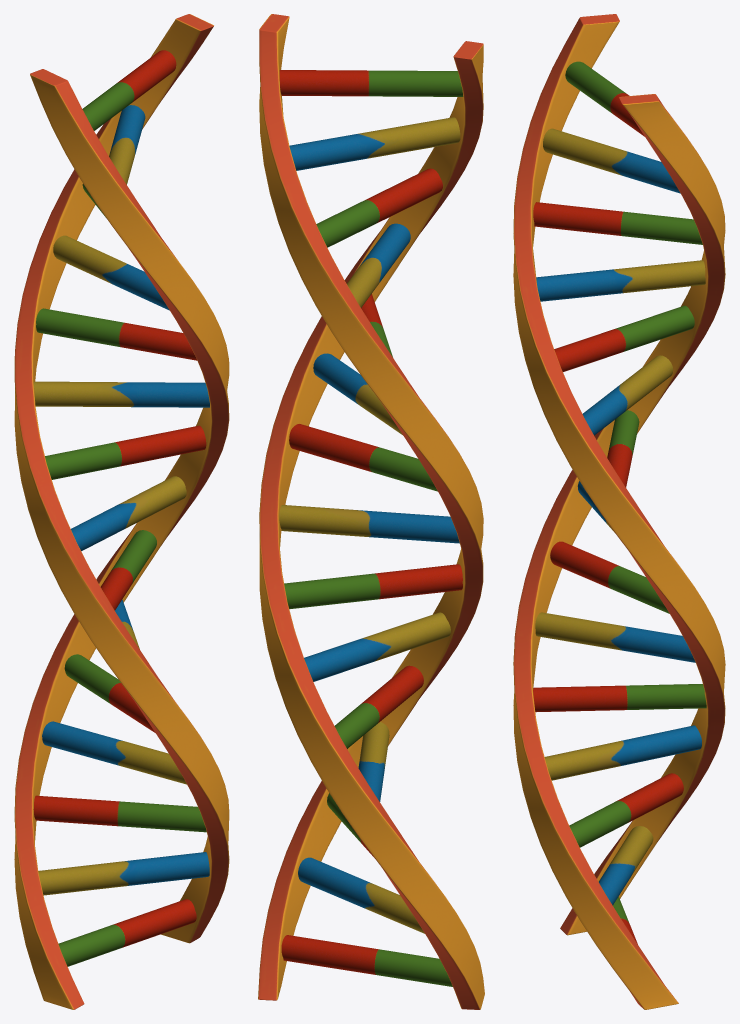
Rendered from DNA.fbx.
3 views of the same model, side by side, from view 1: azimuth 30°, elevation 25°; view 2: azimuth 150°, elevation 25°; view 3: azimuth 270°, elevation 25° (orthographic). The views are drawn at different scales.
Visible parts, largest first — view 1: node_id68; view 2: node_id68; view 3: node_id68.
Boxes of the visible parts, left/top/right/bottom form: node_id68: left=14, top=14, right=229, bottom=1009; node_id68: left=258, top=14, right=484, bottom=1009; node_id68: left=513, top=14, right=725, bottom=1009.
Size of the model in its own units: 0.1226 by 0.572 by 0.1213.
Materials: 1 (1 with a texture image).
